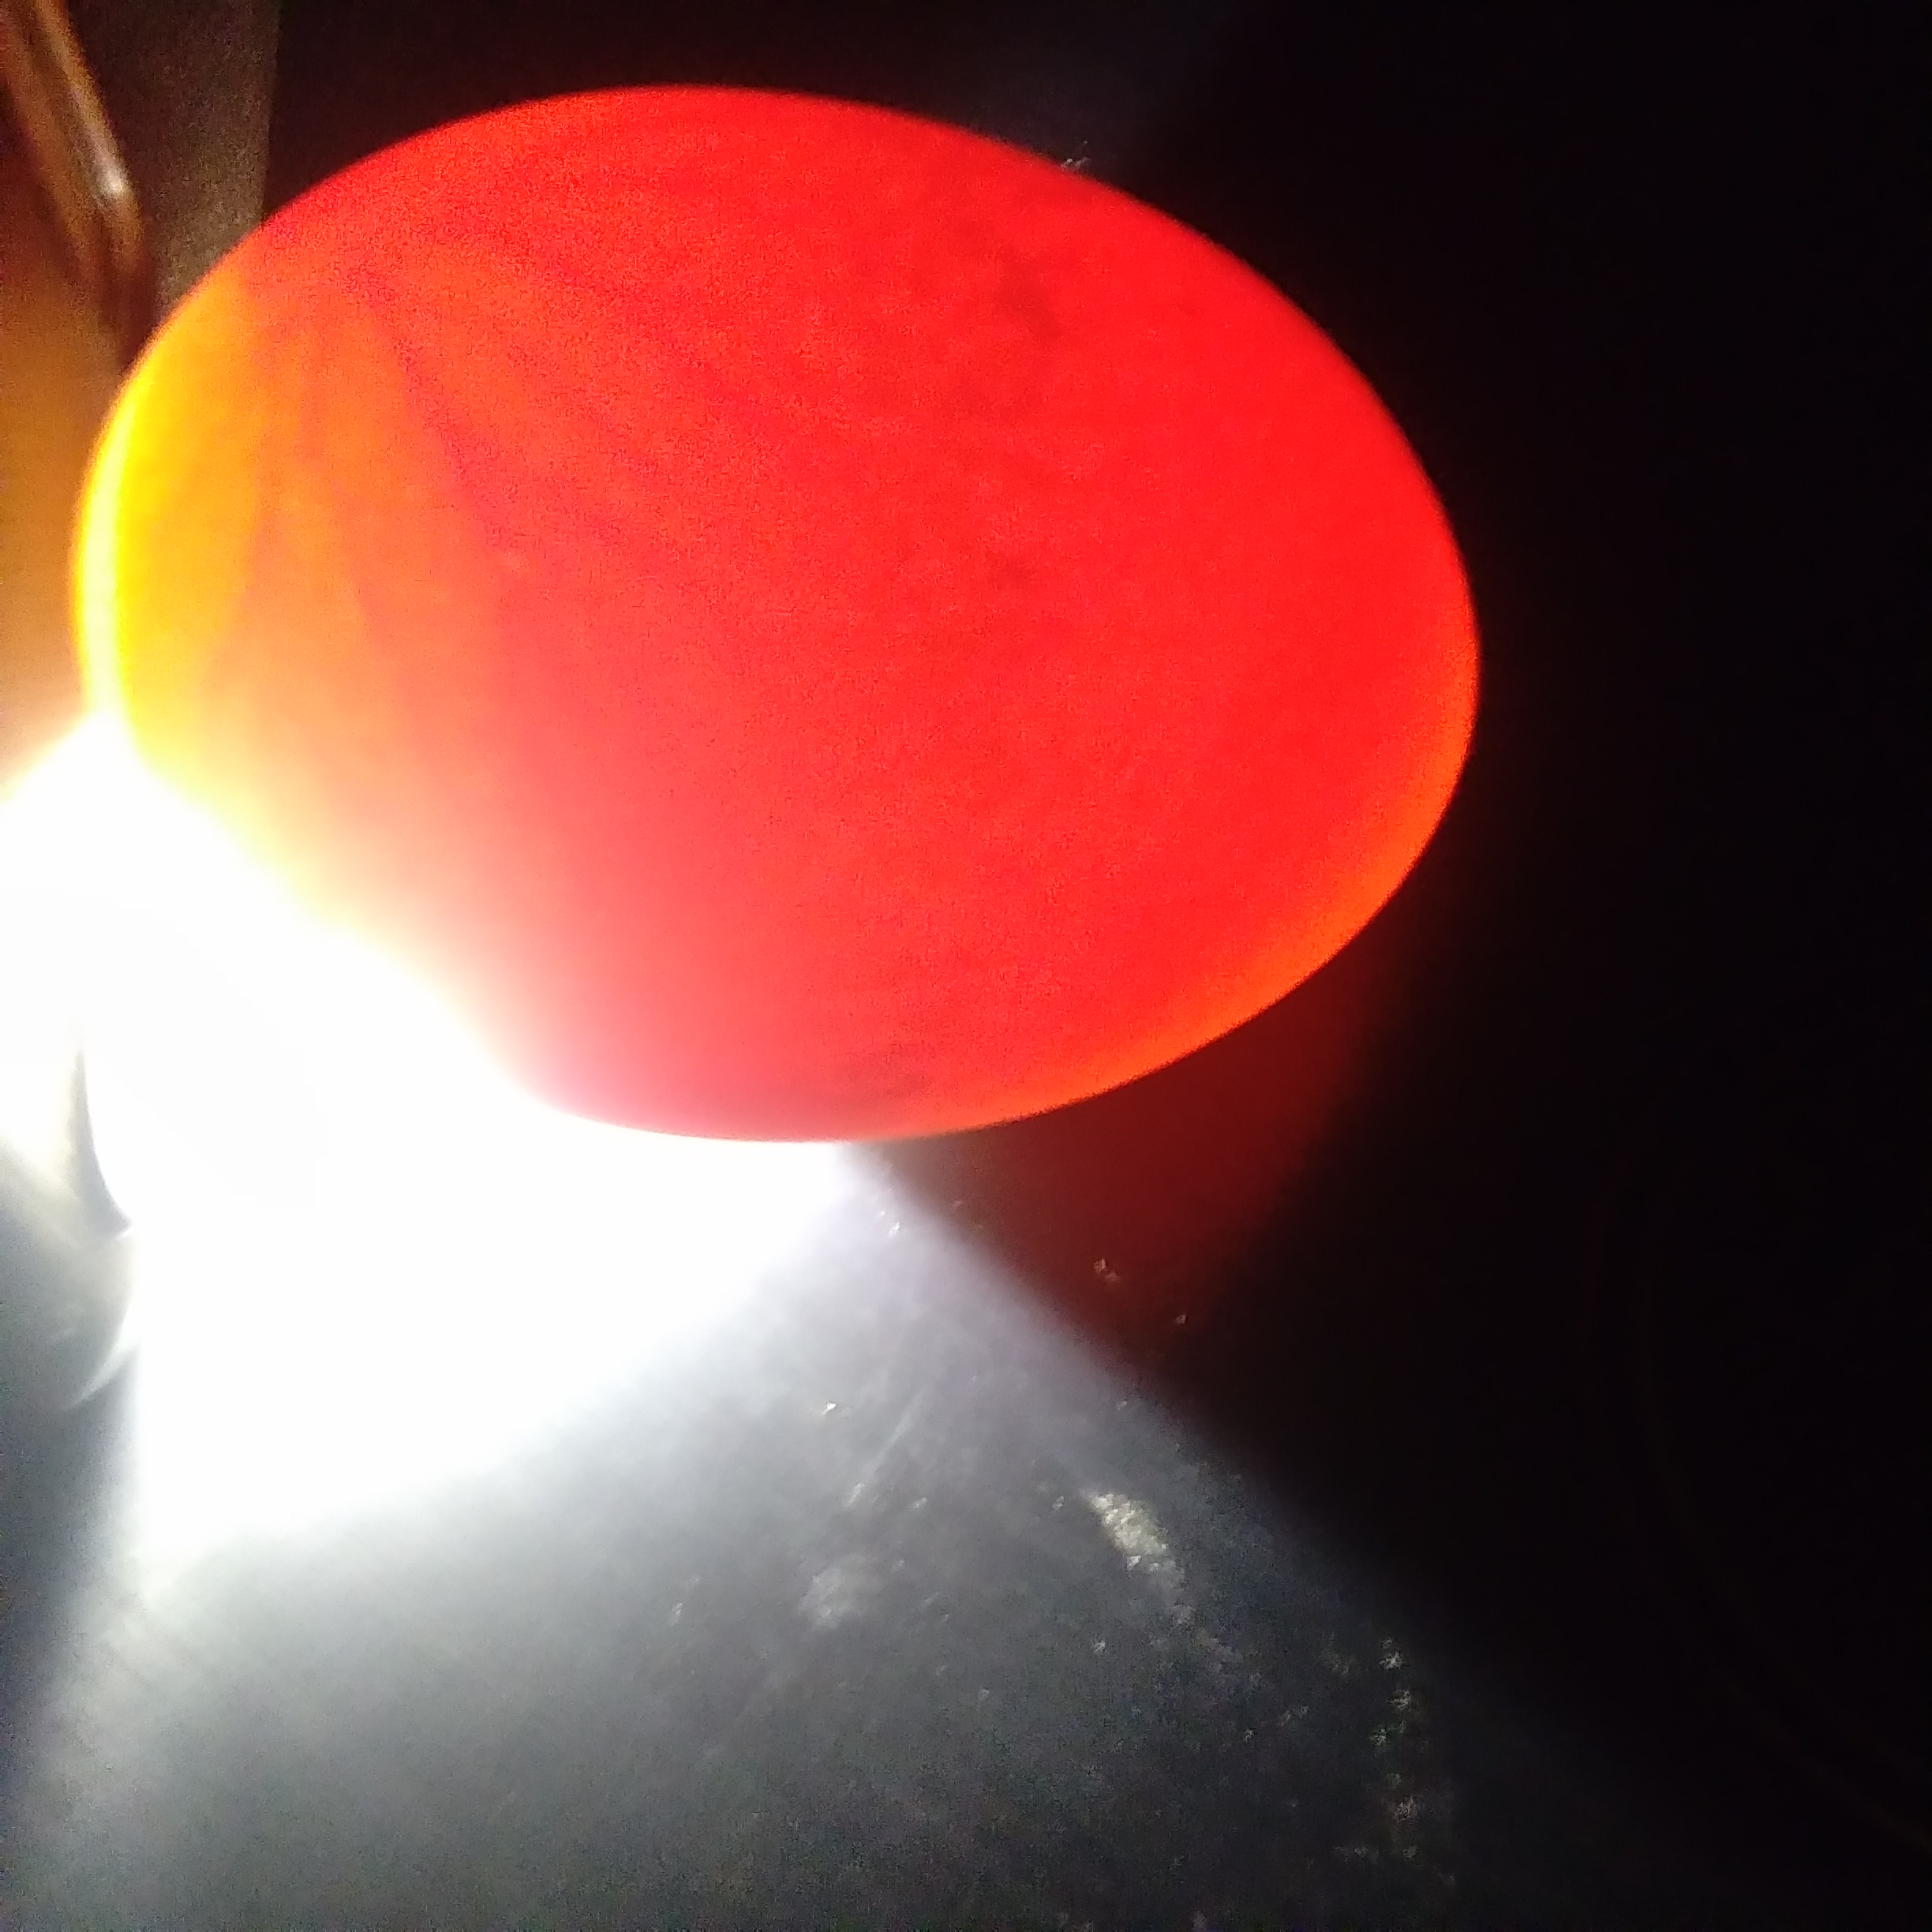bloodcell: (202, 301, 683, 683)
